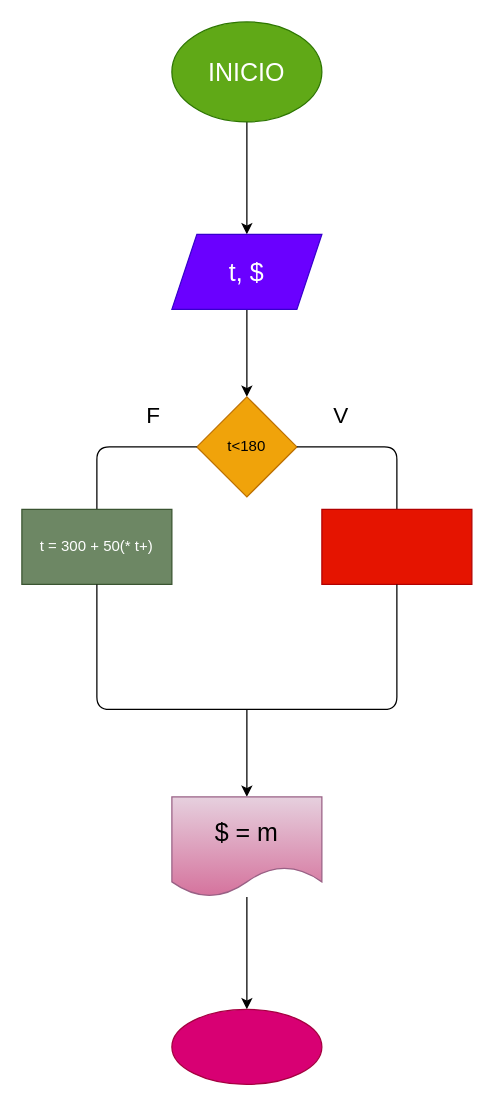
Image size: 494x1106. Some labels were removed from this diagram. The centre of each missing label's shape, as x and y in pixels:
"FIN" goes at (246,1046).
"t = $300" goes at (396,546).
